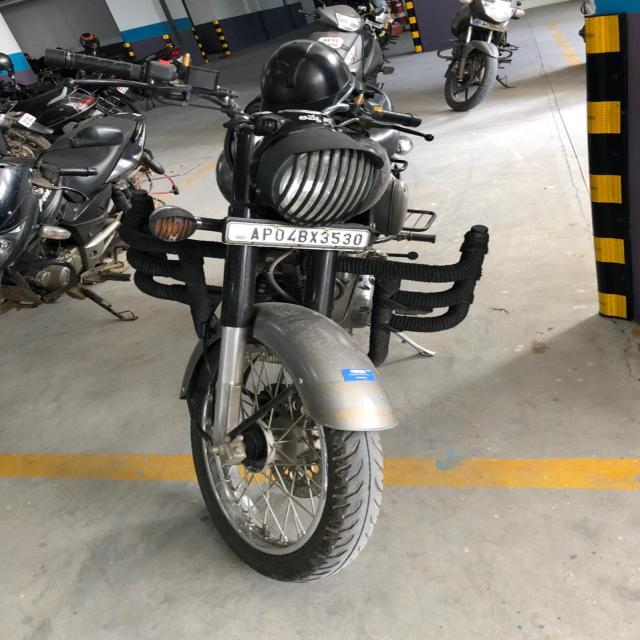number plate: (220, 219, 372, 251)
